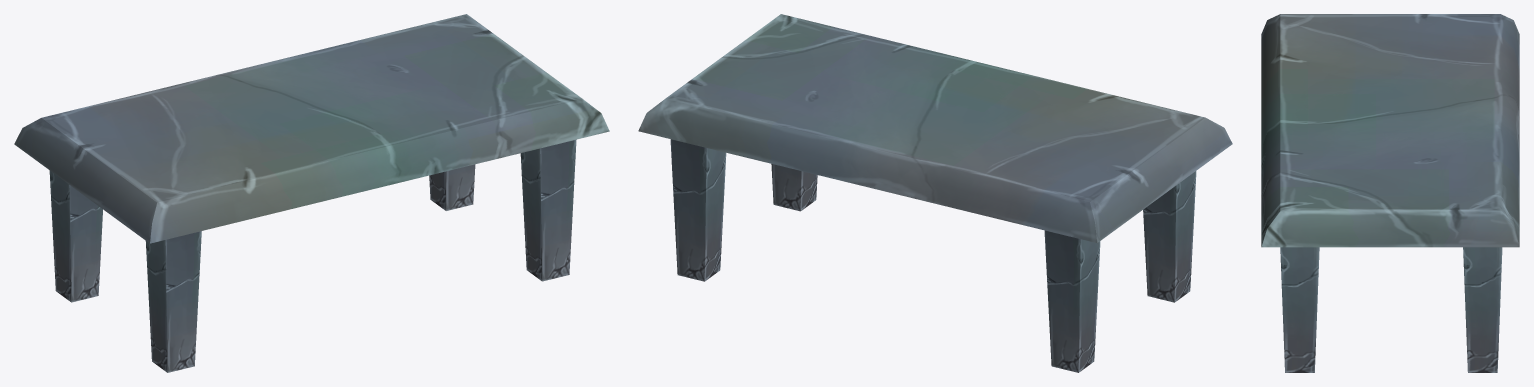
Rendered from table_norunner.FBX.
The picture shows the model from 3 angles, left to right: view 1: azimuth 30°, elevation 25°; view 2: azimuth 150°, elevation 25°; view 3: azimuth 270°, elevation 25°; orthographic projection. The views are drawn at different scales.
Parts seen in each view (by area): view 1: table_norunner; view 2: table_norunner; view 3: table_norunner.
Part boxes in pixels (left/top/right/bottom): table_norunner: left=14, top=14, right=609, bottom=372; table_norunner: left=638, top=14, right=1232, bottom=372; table_norunner: left=1261, top=14, right=1519, bottom=372.
Size of the model in its own units: 86.61 by 31.55 by 44.3.
